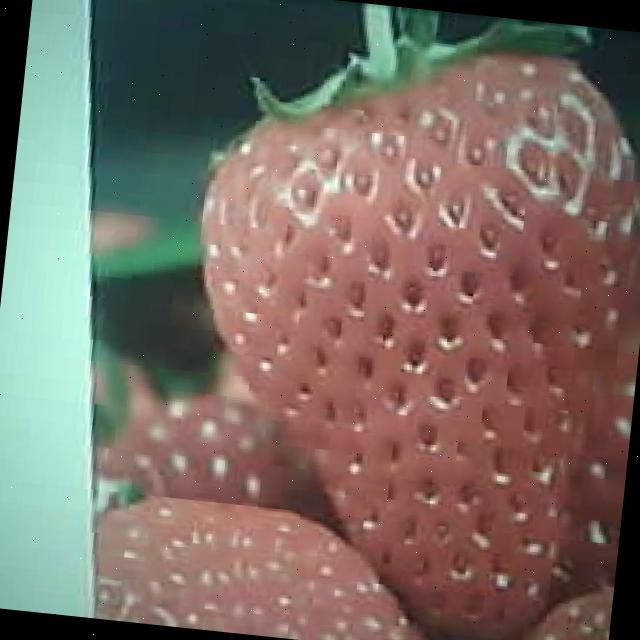strawberry: (160, 27, 640, 640)
